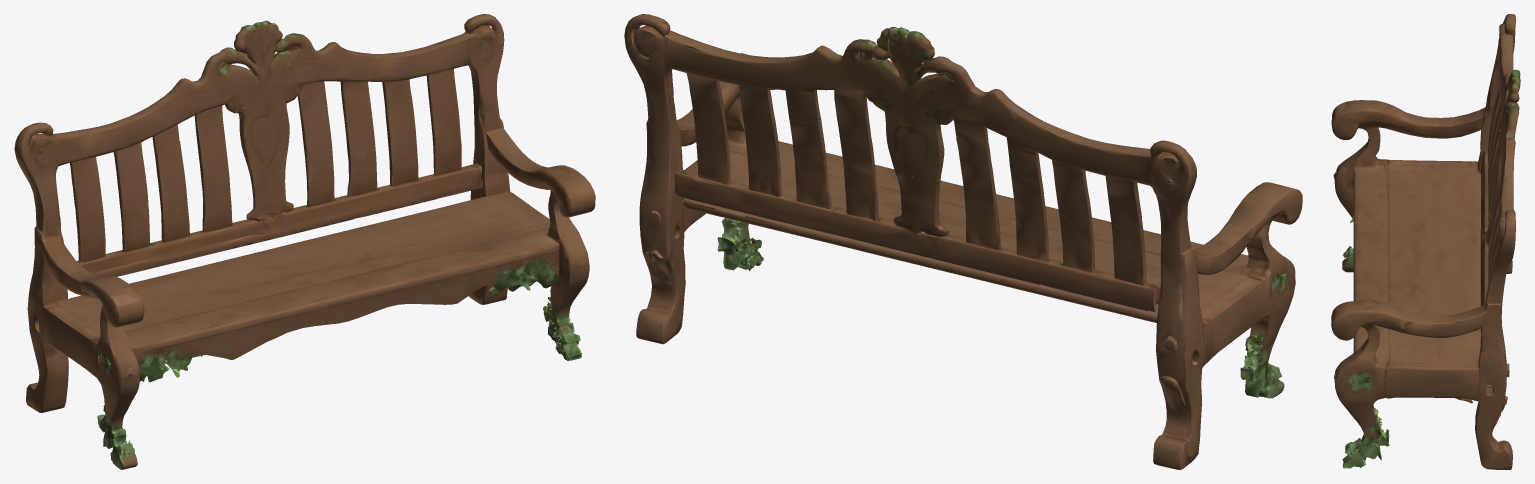
The model's file is BenchCarved.glb.
3 renders of one model, left to right at view 1: azimuth 30°, elevation 25°; view 2: azimuth 150°, elevation 25°; view 3: azimuth 270°, elevation 25°, orthographic. The views are drawn at different scales.
Visible parts, largest first — view 1: BenchCarved; view 2: BenchCarved; view 3: BenchCarved.
Part boxes in pixels (x1,y1,x2,y2): BenchCarved: (14,14,595,469); BenchCarved: (624,14,1302,469); BenchCarved: (1331,14,1520,469).
Size of the model in its own units: 1.97 by 1.26 by 0.7356.
1 material, 1 textured.
